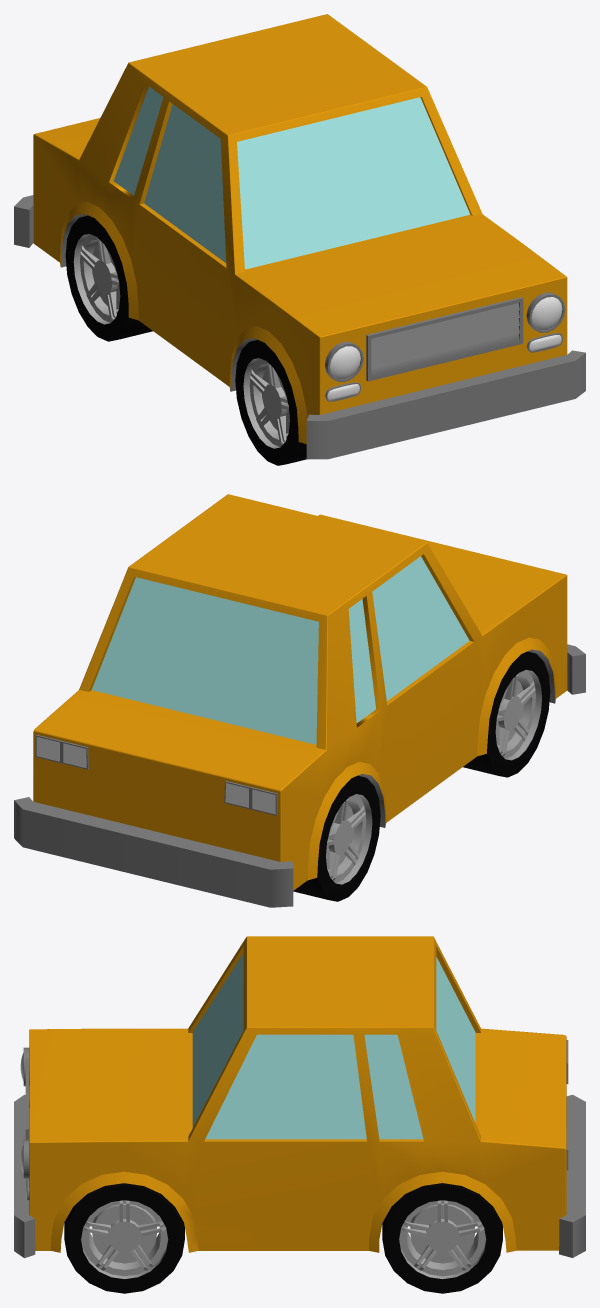
Rendered from ART-MOD-A-CAR-ORANGE-001.fbx.
The picture shows the model from 3 angles, top to bottom: view 1: azimuth 30°, elevation 25°; view 2: azimuth 150°, elevation 25°; view 3: azimuth 270°, elevation 25°; orthographic projection. The views are drawn at different scales.
Visible parts, largest first — view 1: polySurface10; view 2: polySurface10; view 3: polySurface10.
Part boxes in pixels (x1,y1,x2,y2): polySurface10: [14, 14, 585, 465]; polySurface10: [14, 494, 585, 907]; polySurface10: [14, 936, 585, 1293].
Bounding box in the file's own units: 233 × 217 × 440.
